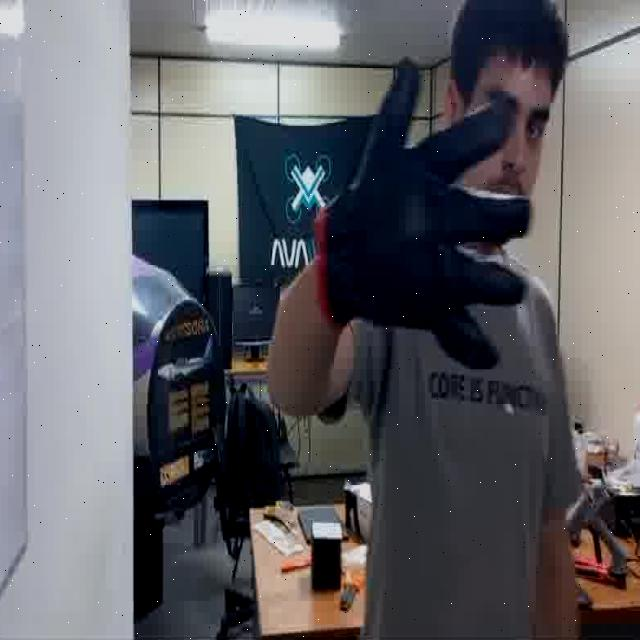Gloves: (322, 55, 539, 376)
